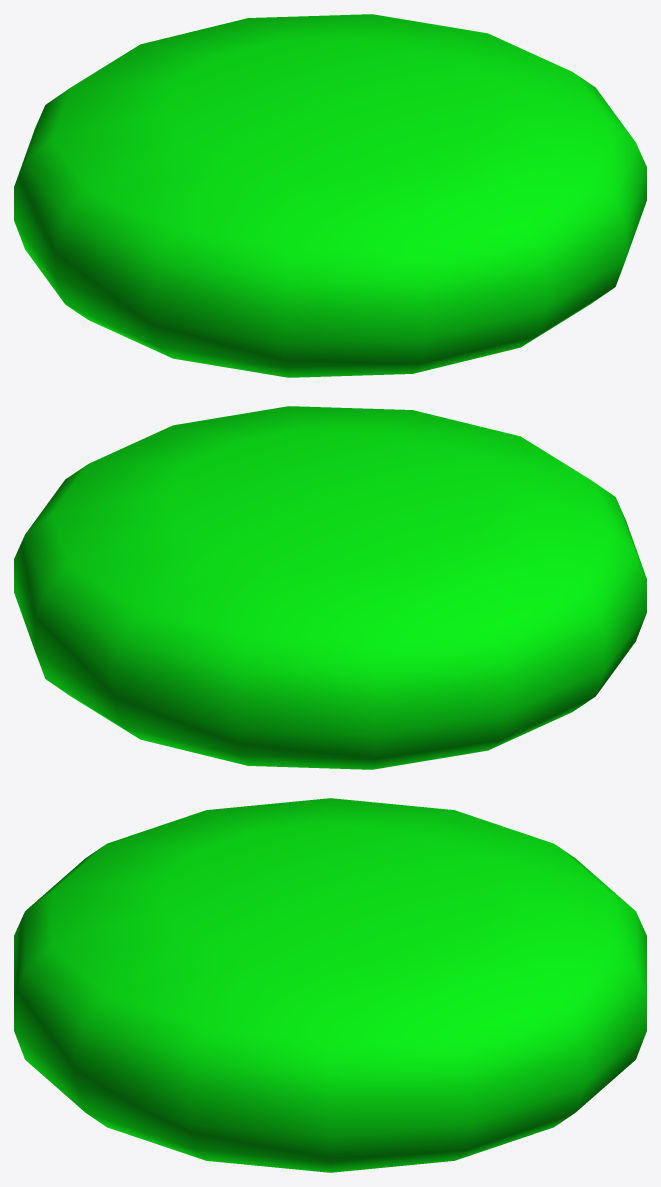
Rendered from Dragee Green.fbx.
The picture shows the model from 3 angles, top to bottom: view 1: azimuth 30°, elevation 25°; view 2: azimuth 150°, elevation 25°; view 3: azimuth 270°, elevation 25°; orthographic projection. The views are drawn at different scales.
Visible parts, largest first — view 1: Dragee Green; view 2: Dragee Green; view 3: Dragee Green.
Boxes of the visible parts, box(x1,y1,x2,y2) form: Dragee Green: box(14, 14, 646, 377); Dragee Green: box(14, 406, 646, 769); Dragee Green: box(14, 798, 646, 1172).
Bounding box in the file's own units: 0.0851 × 0.0277 × 0.083.
